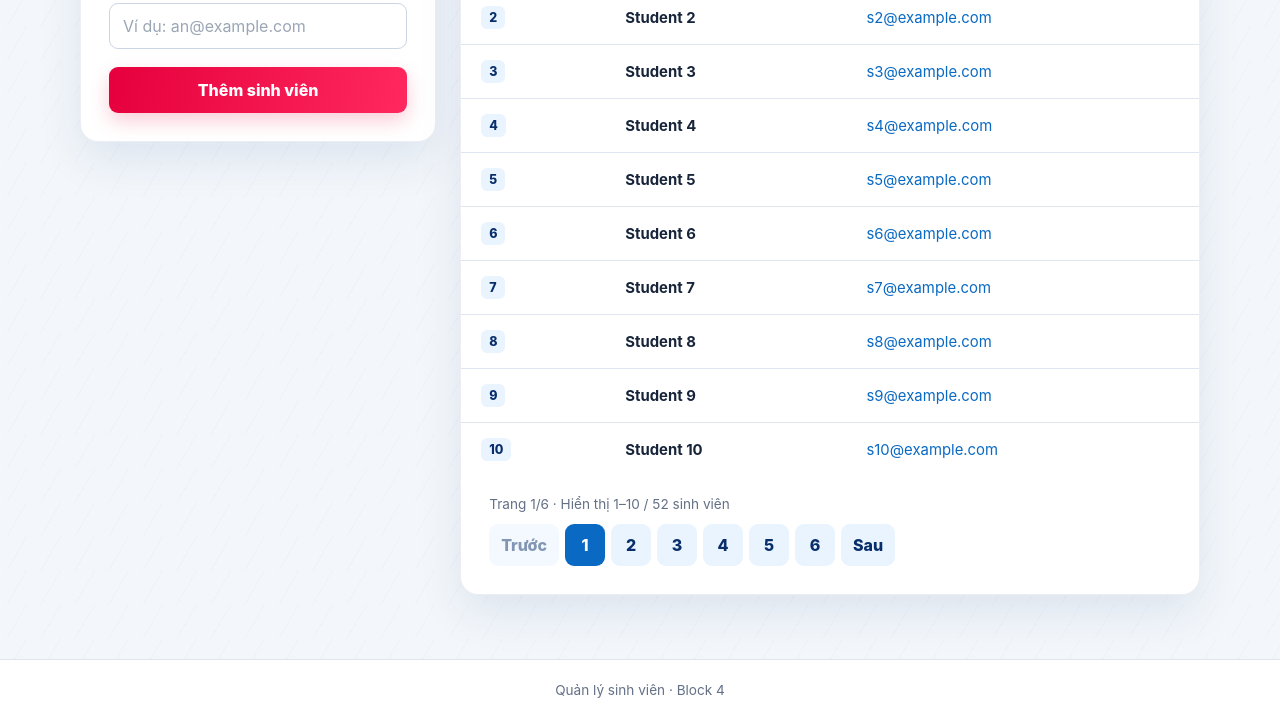
52 students paginate, submit uses fetch, waits for save, clears form and goes to last page
(page scrolled)
Check: the button "Trước" is disabled, box [489, 524, 559, 566]
Click the button named "Trang 6" at (815, 546), box [795, 524, 835, 566]
(page scrolled)
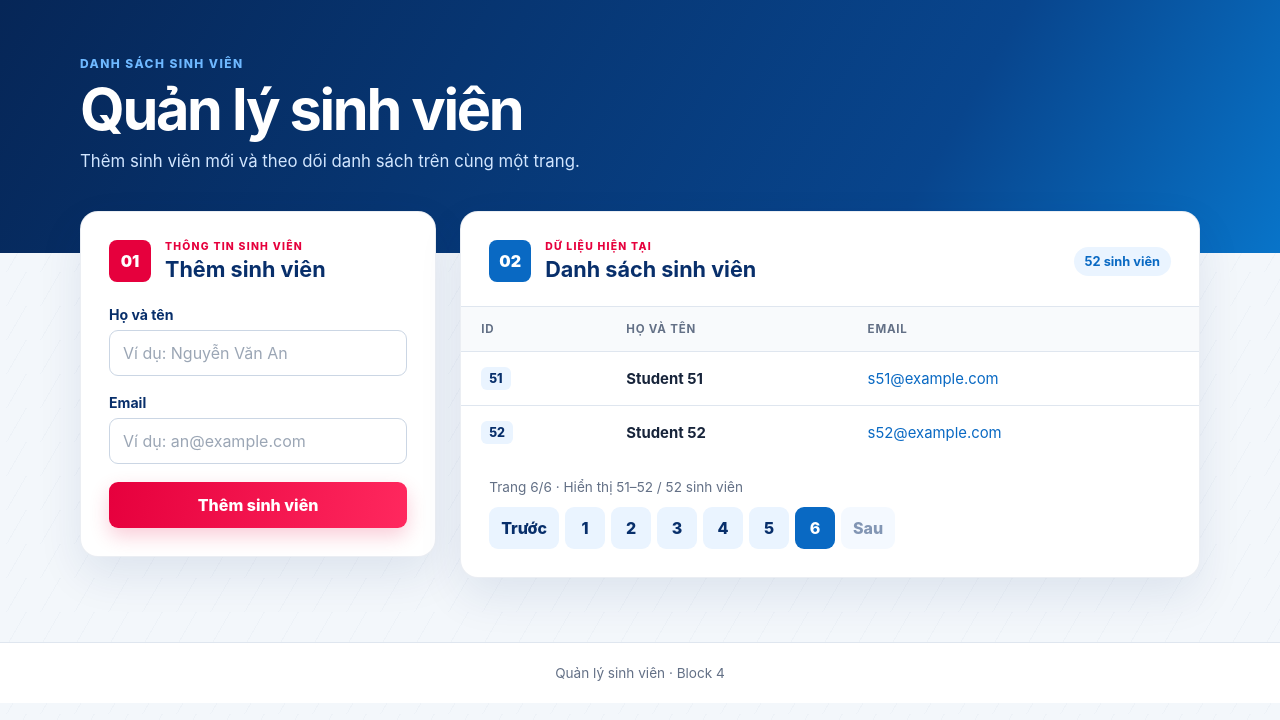
Check: the number of rows is 3, box [461, 307, 1199, 352]; [461, 352, 1199, 406]; [461, 406, 1199, 460]
Check: the button "Sau" is disabled, box [841, 508, 895, 550]
Click the button "Trước" at (524, 528), box [489, 508, 559, 550]
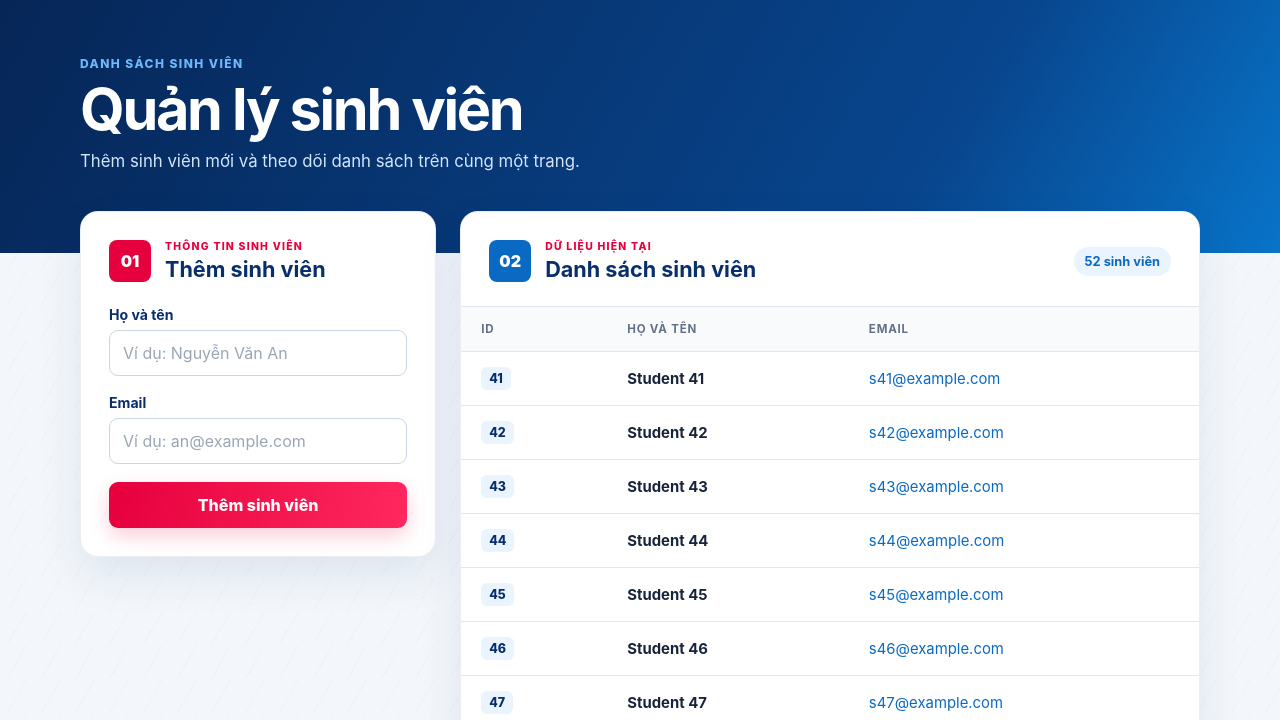
Type "Nguyễn Văn An" into the field labelled "Họ và tên" at (258, 354), box [109, 330, 407, 376]
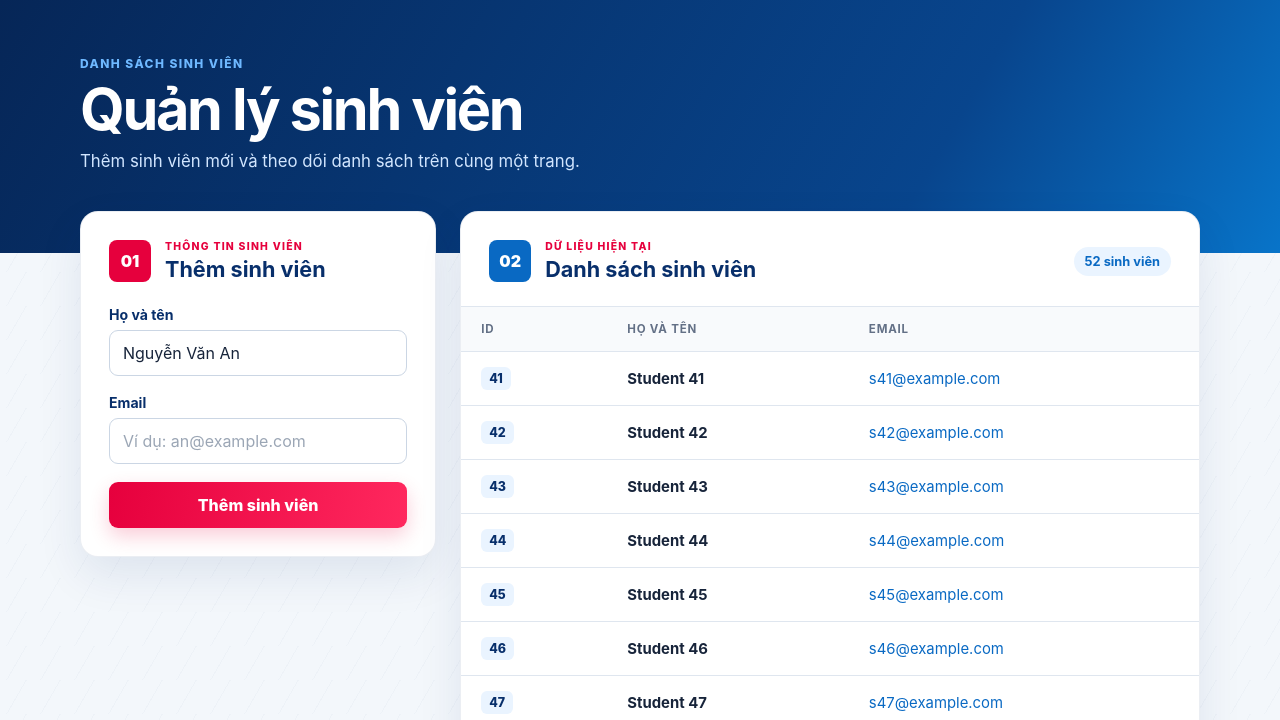
Type "an@example.com" into the field labelled "Email" at (258, 442), box [109, 418, 407, 464]
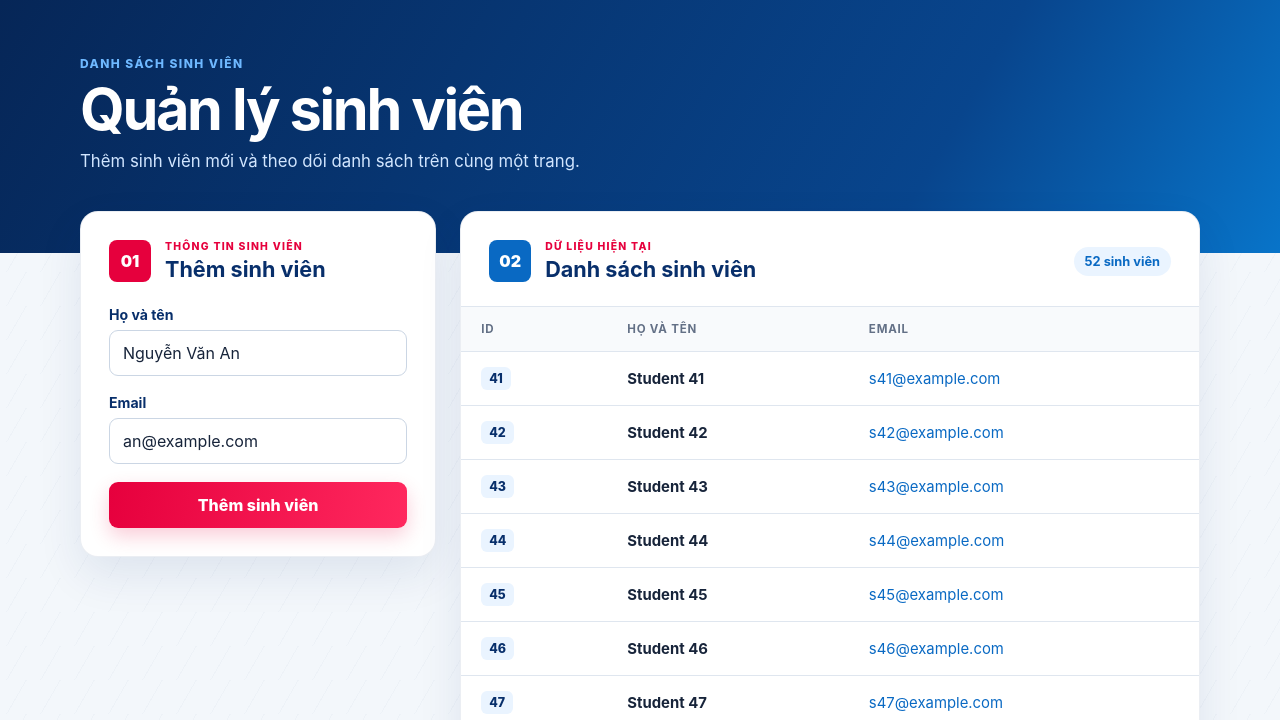
Submit the form "Thêm sinh viên", box [109, 306, 407, 528]
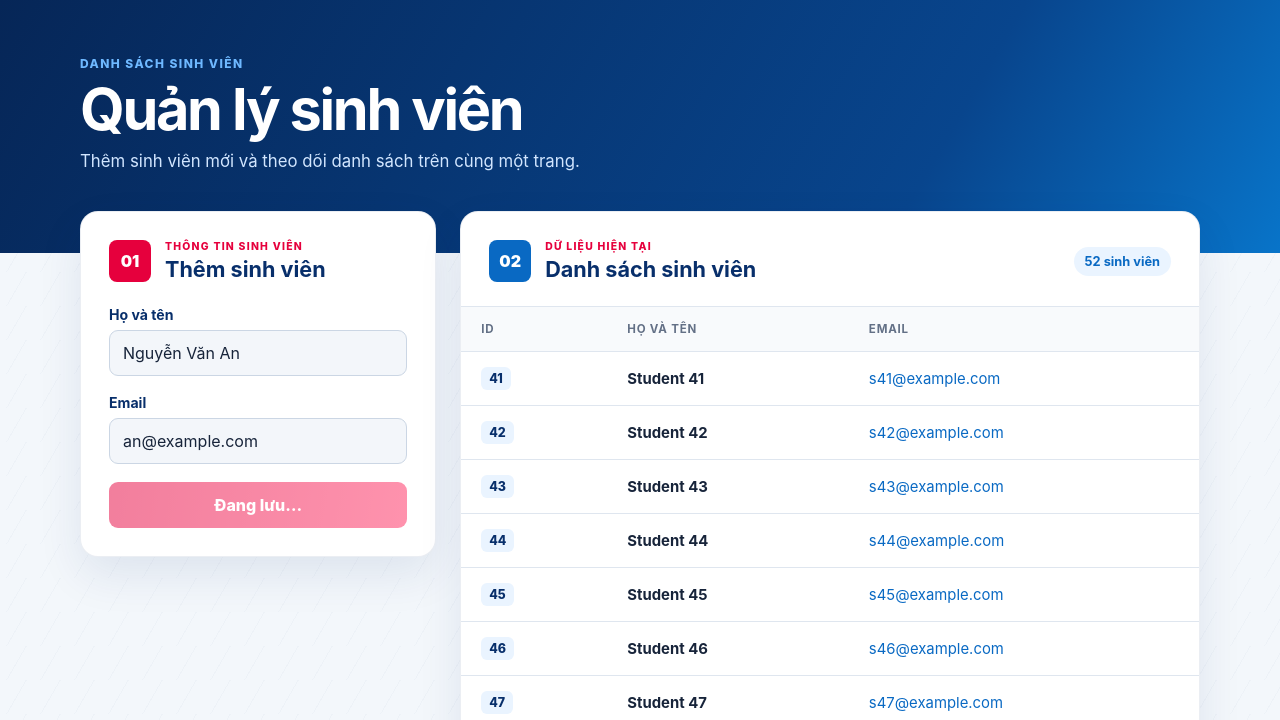
Check: the text "53 sinh viên" is not shown
Check: the button "Đang lưu…" is disabled, box [109, 482, 407, 528]
Submit the form named "Thêm sinh viên", box [109, 306, 407, 528]
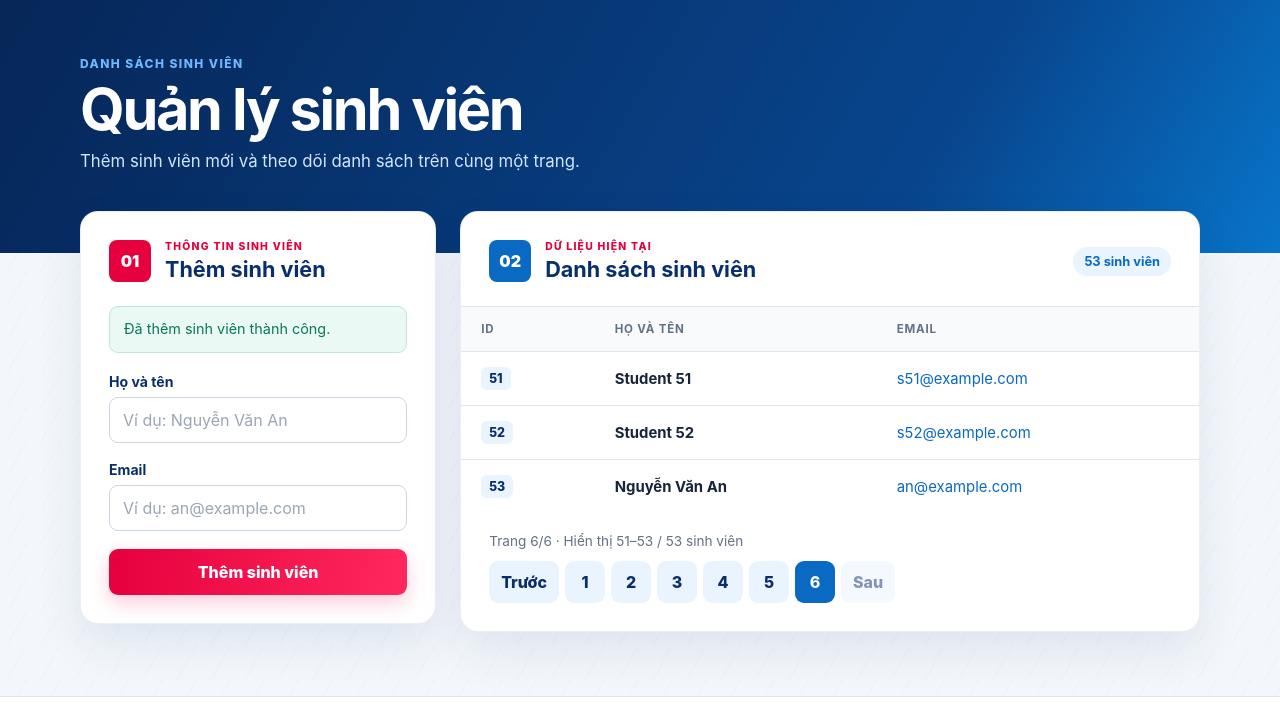
Check: the text "Đã thêm sinh viên thành công." is shown, box [109, 306, 407, 353]
Check: the field labelled "Họ và tên" is empty, box [109, 397, 407, 443]
Check: the field labelled "Email" is empty, box [109, 485, 407, 531]
